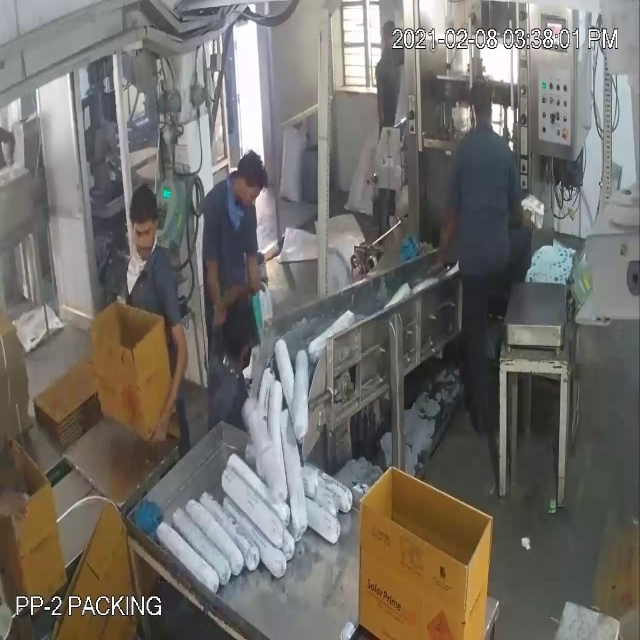Sin_guantes: (145, 305, 194, 441), (0, 469, 40, 548), (209, 280, 270, 328)
